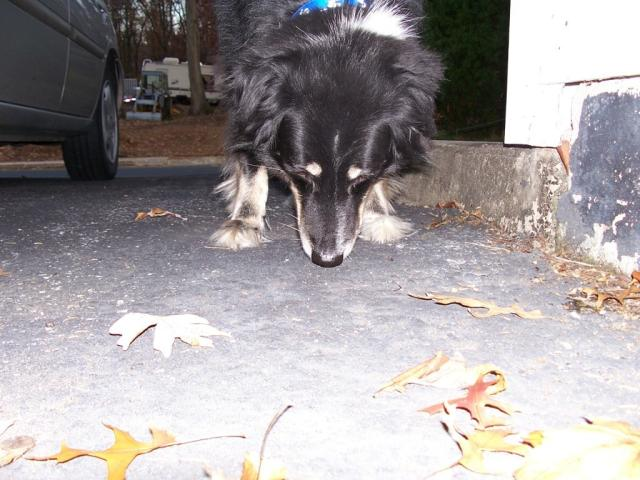Dog: (210, 0, 449, 272)
